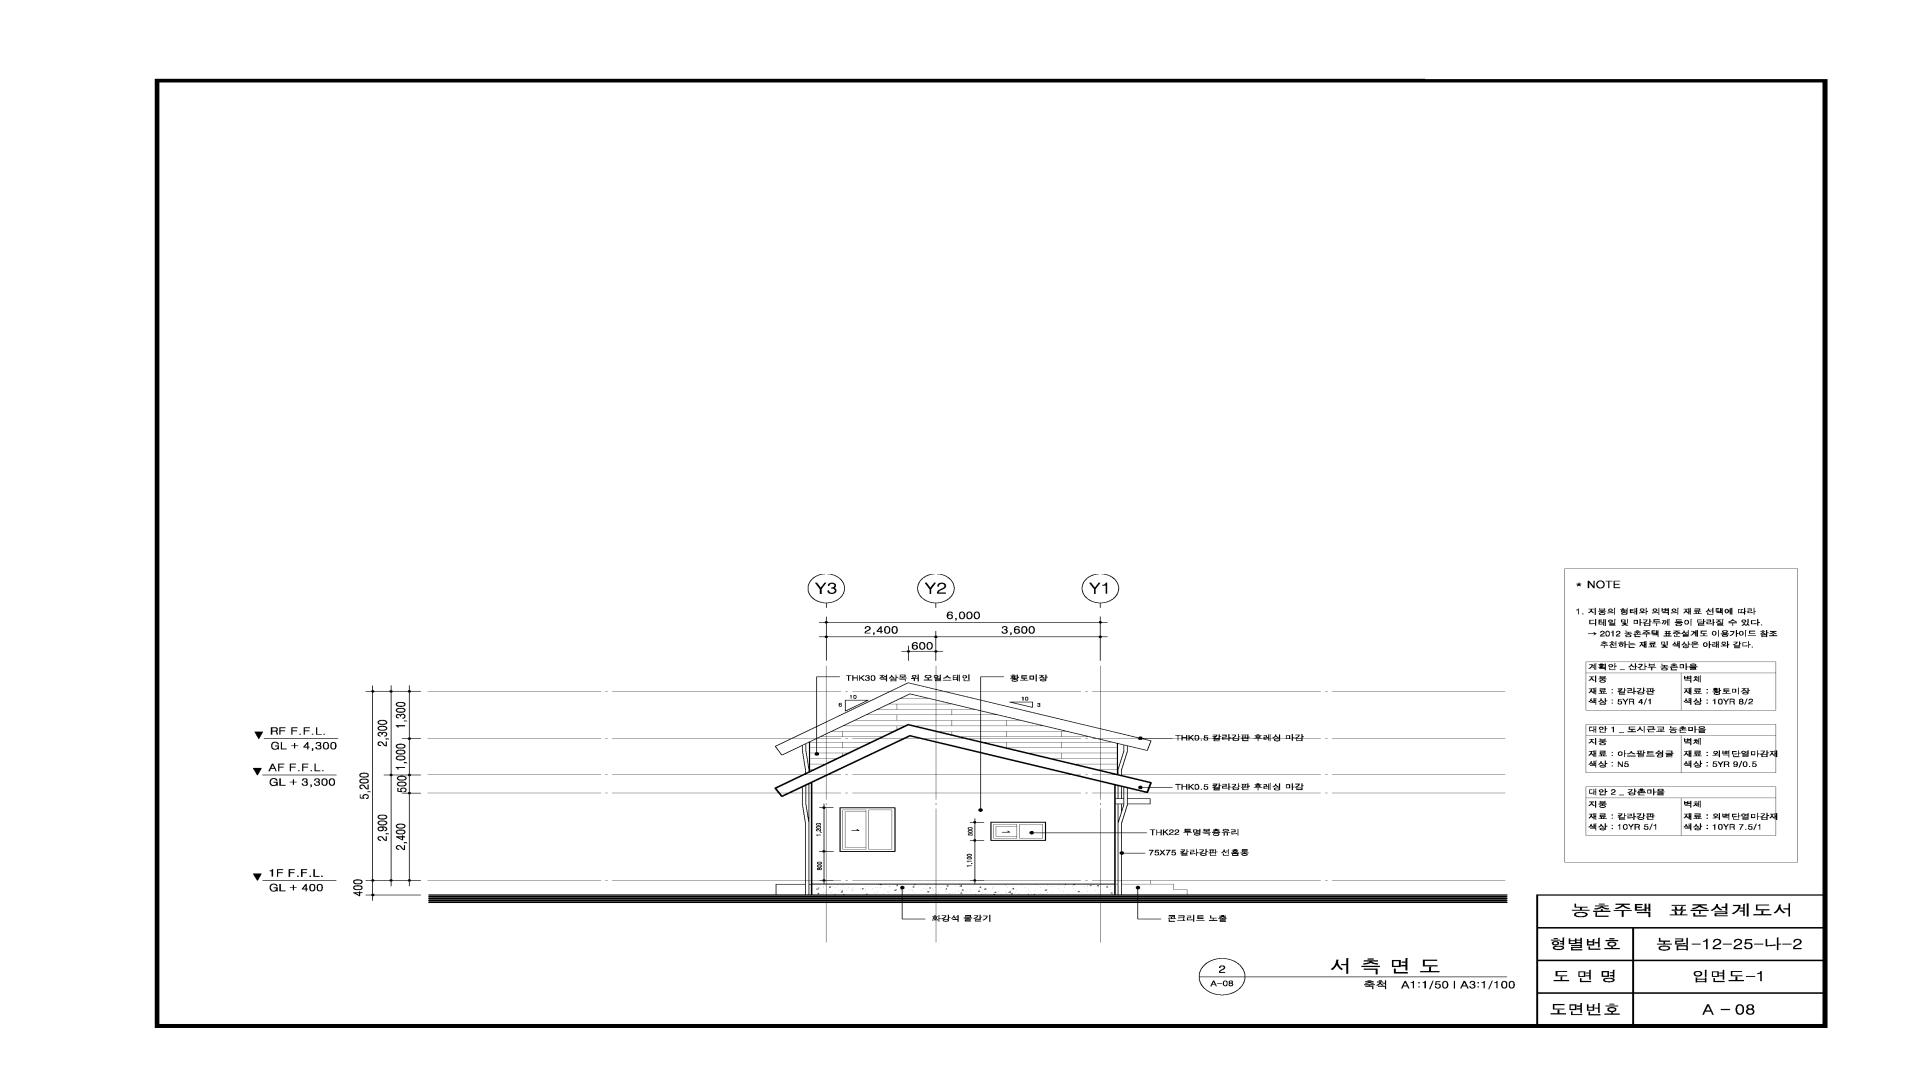background: (0, 0, 1920, 1080)
wall: (775, 683, 1151, 894)
window: (840, 807, 895, 852), (990, 822, 1046, 841)
